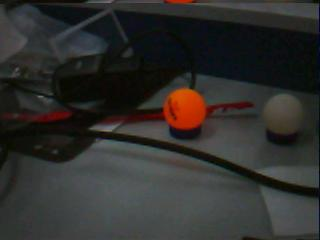oball: (163, 88, 204, 129)
